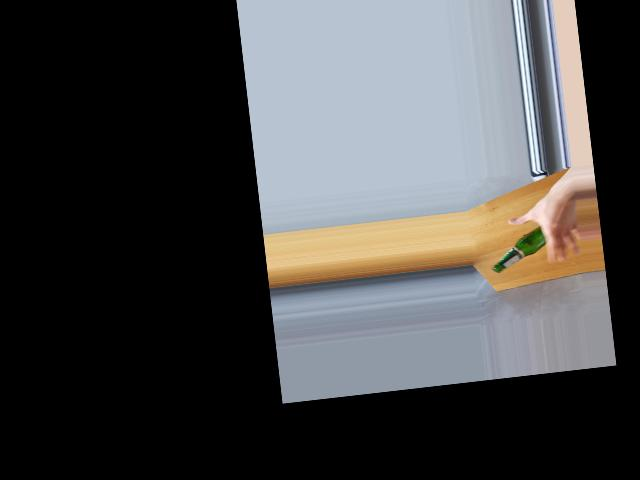beer: (487, 225, 548, 273)
